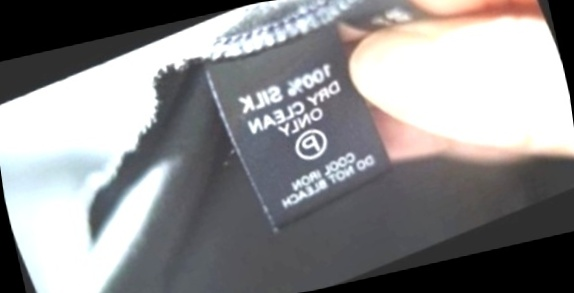dry_clean_any_solvent_except_trichloroethylene: (280, 115, 339, 173)
